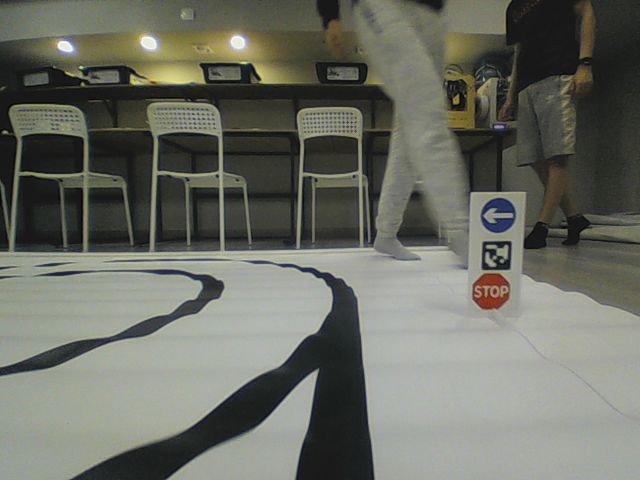Stop: (469, 270, 511, 312)
